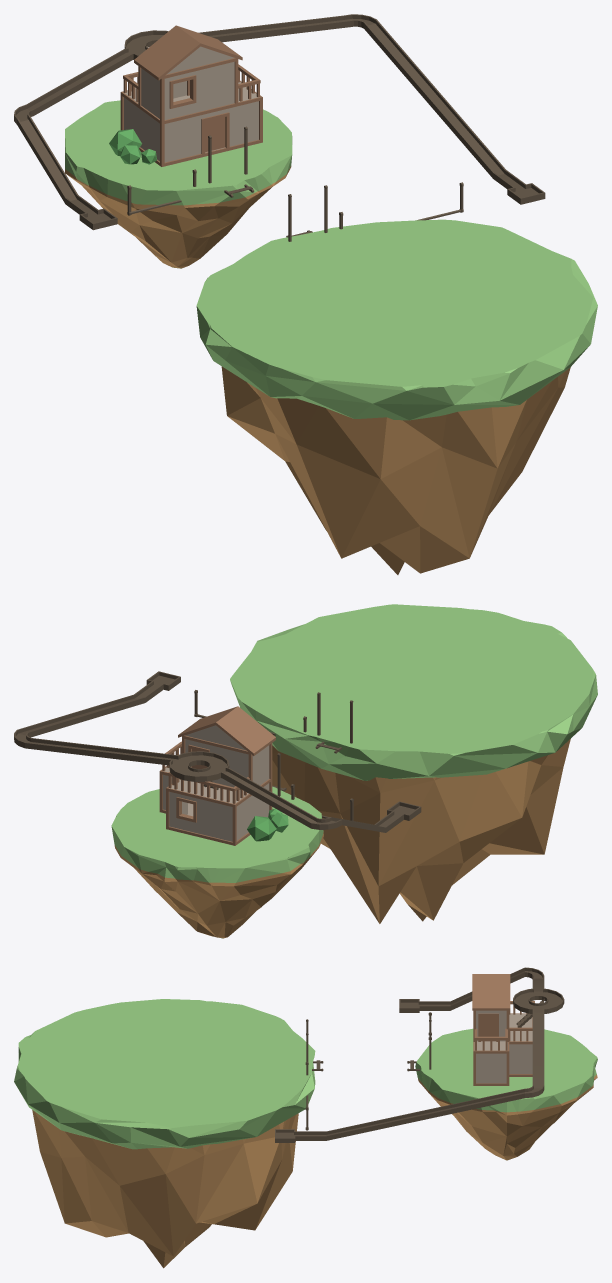
3 renders of one model, top to bottom at view 1: azimuth 30°, elevation 25°; view 2: azimuth 150°, elevation 25°; view 3: azimuth 270°, elevation 25°, orthographic. The views are drawn at different scales.
Visible parts, largest first — view 1: 立方体_6_4, 球体_2, 球体, 立方体_8_5, 球体_5, 管道_1, 球体_3, edge, 管道, 立方体, 立方体_8, roof2 (+5 smaller); view 2: 立方体_6_4, 球体_2, 球体, 立方体_8_5, 球体_5, 球体_3, 管道_1, edge, 立方体_1_2, 立方体_1_3, roof2, 立方体_3_2 (+10 smaller); view 3: 立方体_6_4, 球体_2, 球体, 立方体_8_5, 球体_5, 管道_1, 球体_3, roof1, 管道, edge, 立方体_1_3, 立方体_11 (+3 smaller).
Part boxes in pixels (box(x1,y1,x2,y2)): 立方体_6_4: box(196, 219, 593, 387); 球体_2: box(221, 366, 570, 574); 球体: box(196, 259, 597, 420); 立方体_8_5: box(65, 100, 292, 190); 球体_5: box(65, 166, 291, 268); 管道_1: box(343, 14, 545, 204); 球体_3: box(65, 136, 292, 268); edge: box(120, 58, 262, 166); 管道: box(14, 104, 117, 230); 立方体: box(164, 61, 234, 119); 立方体_8: box(164, 107, 235, 162); roof2: box(134, 25, 200, 80); 立方体_6_4: box(230, 604, 592, 753); 球体_2: box(272, 739, 570, 923); 球体: box(230, 624, 597, 780); 立方体_8_5: box(111, 786, 321, 868); 球体_5: box(114, 832, 323, 938); 球体_3: box(111, 815, 323, 938); 管道_1: box(14, 671, 180, 748); edge: box(159, 735, 272, 845); 立方体_1_2: box(169, 787, 232, 841); 立方体_1_3: box(25, 738, 178, 765); roof2: box(216, 706, 275, 755); 立方体_3_2: box(220, 767, 317, 828); 立方体_6_4: box(17, 999, 315, 1128); 球体_2: box(32, 1110, 298, 1268); 球体: box(14, 1033, 315, 1149); 立方体_8_5: box(416, 1028, 596, 1099); 球体_5: box(418, 1074, 597, 1160); 管道_1: box(275, 1085, 544, 1142); 球体_3: box(415, 1057, 597, 1112); roof1: box(472, 974, 510, 1010); 管道: box(399, 967, 543, 1012); edge: box(473, 1010, 532, 1085); 立方体_1_3: box(532, 1009, 544, 1088); 立方体_11: box(476, 1049, 506, 1083).
Bounding box in the file's own units: 2739 × 2542 × 4551.
